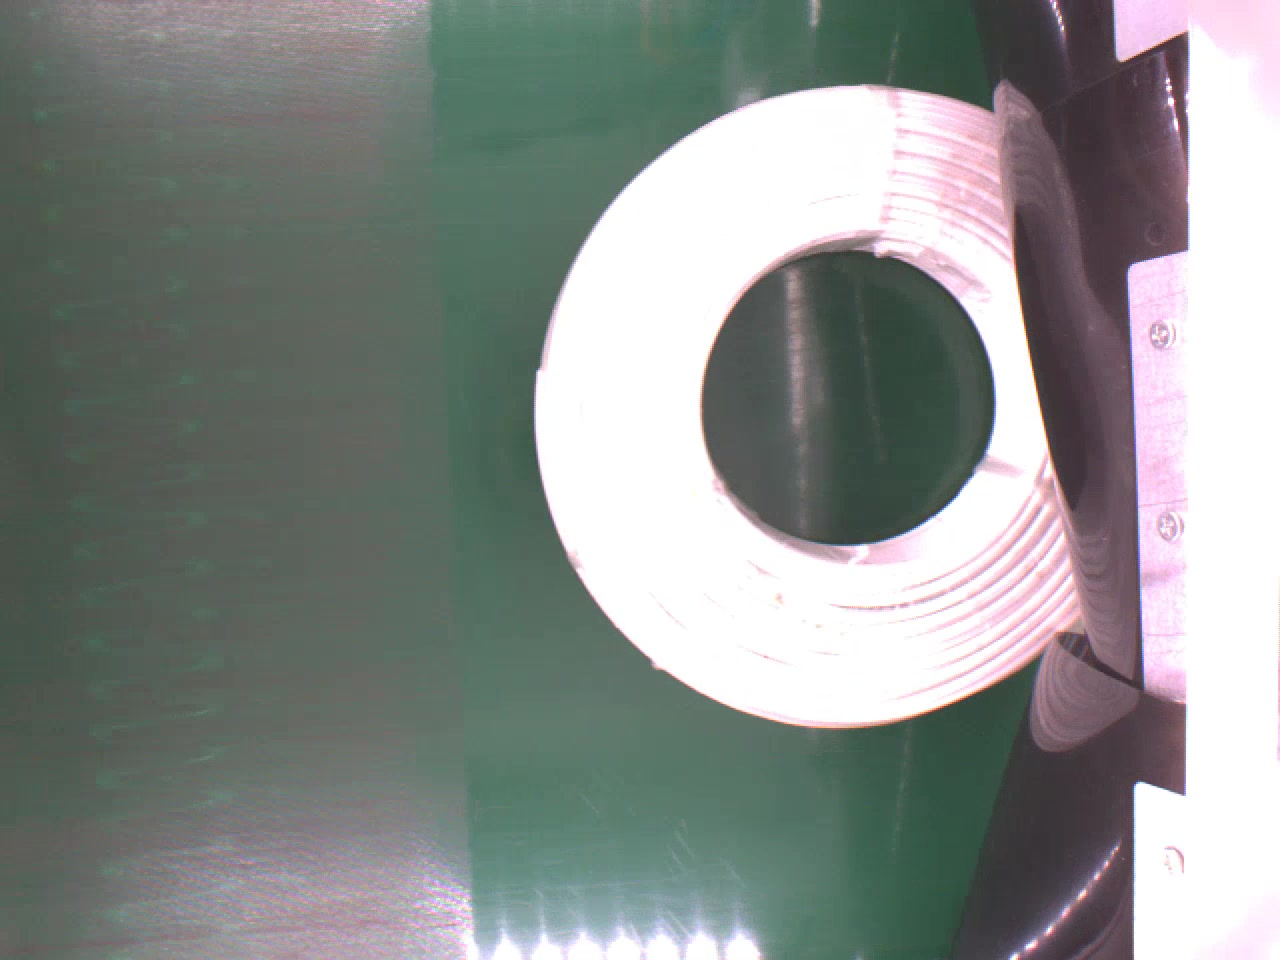white: (533, 82, 1111, 728)
